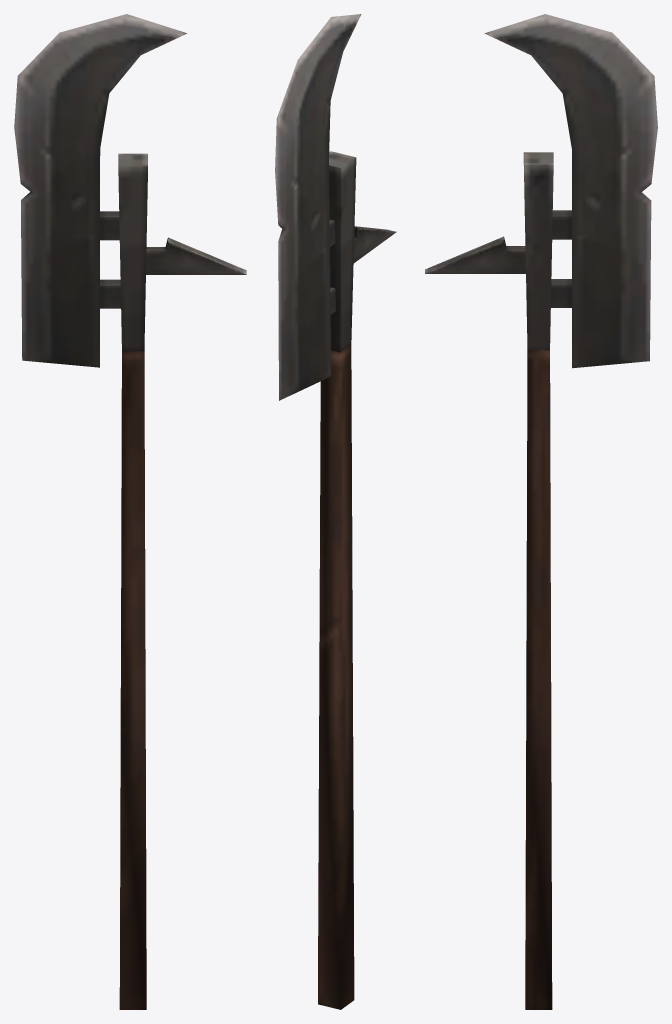
The model's file is polearm_ghost01_5cbecb56.glb.
3 views of the same model, side by side, from view 1: azimuth 90°, elevation 25°; view 2: azimuth 150°, elevation 25°; view 3: azimuth 270°, elevation 25° (orthographic).
Bounding box in the file's own units: 0.0973 × 3.26 × 0.6943.
Materials: 1 (1 with a texture image).
